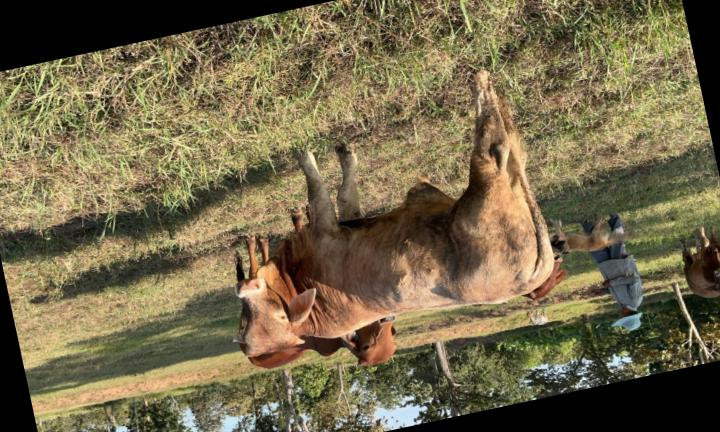Charolais: (234, 71, 553, 356)
